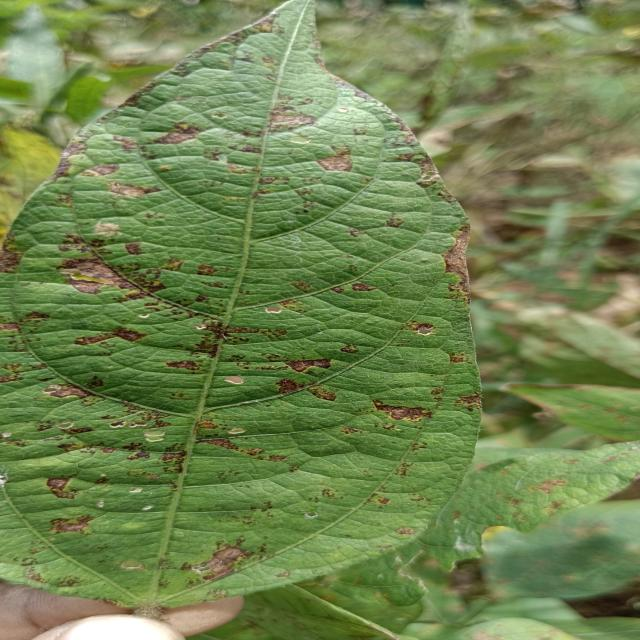Black gram_leaf spot: (0, 0, 495, 611)
